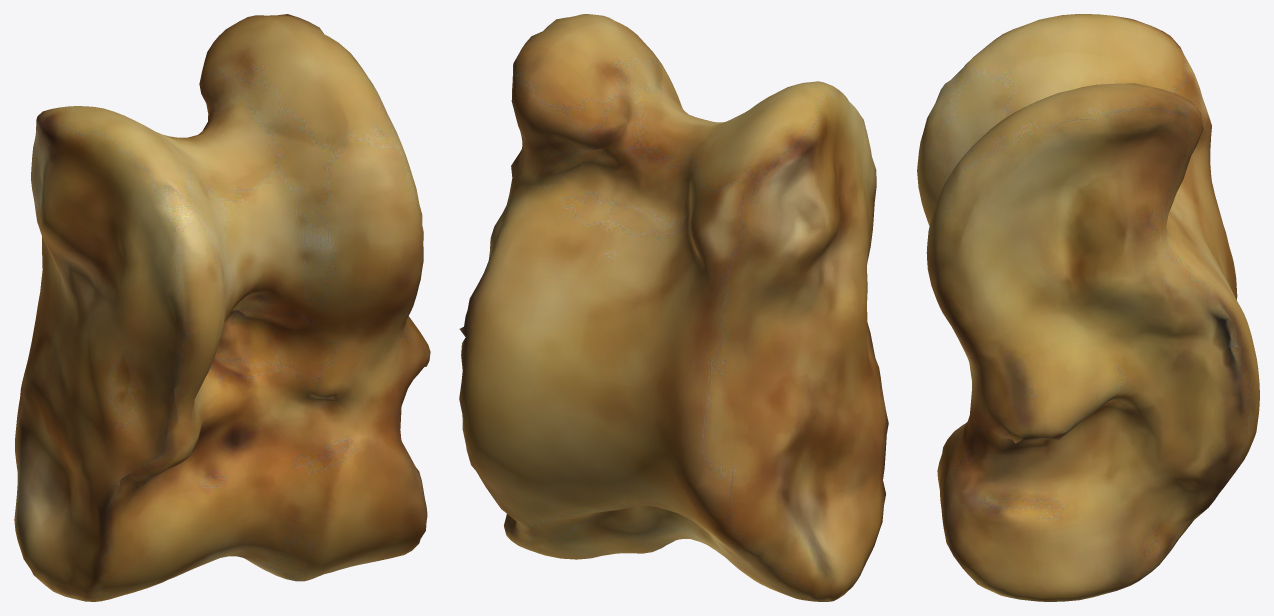
File: astragalus.glb
3 renders of one model, left to right at view 1: azimuth 30°, elevation 25°; view 2: azimuth 150°, elevation 25°; view 3: azimuth 270°, elevation 25°, orthographic. The views are drawn at different scales.
Visible parts, largest first — view 1: Alpaca Left Astralagus; view 2: Alpaca Left Astralagus; view 3: Alpaca Left Astralagus.
Part boxes in pixels (left/top/right/bottom): Alpaca Left Astralagus: left=14, top=14, right=430, bottom=601; Alpaca Left Astralagus: left=459, top=14, right=888, bottom=601; Alpaca Left Astralagus: left=917, top=14, right=1259, bottom=601.
Size of the model in its own units: 0.0261 by 0.036 by 0.0225.
1 material, 1 textured.
